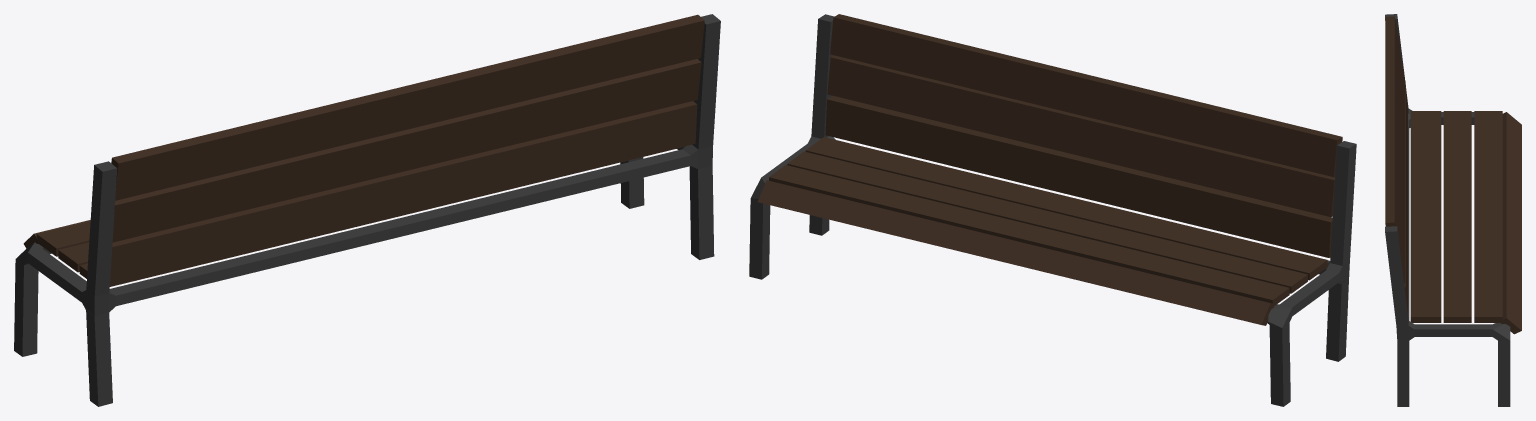
File: garden_chair.glb
3 renders of one model, left to right at view 1: azimuth 30°, elevation 25°; view 2: azimuth 150°, elevation 25°; view 3: azimuth 270°, elevation 25°, orthographic. The views are drawn at different scales.
Parts seen in each view (by area): view 1: garden_chair; view 2: garden_chair; view 3: garden_chair.
Boxes of the visible parts, x1,y1,x2,y2 form: garden_chair: (14,14,720,406); garden_chair: (749,14,1356,406); garden_chair: (1385,14,1521,406).
Bounding box in the file's own units: 2.1 × 0.7998 × 0.5562.
